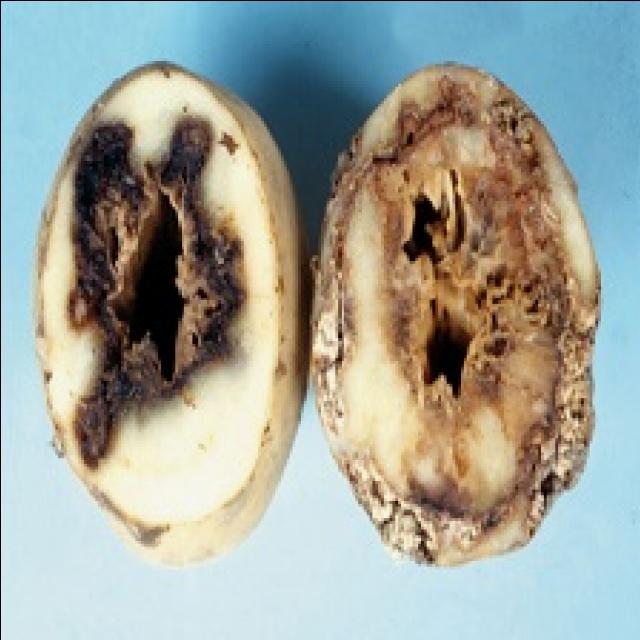blackleg: (308, 49, 608, 576), (22, 50, 302, 578)
